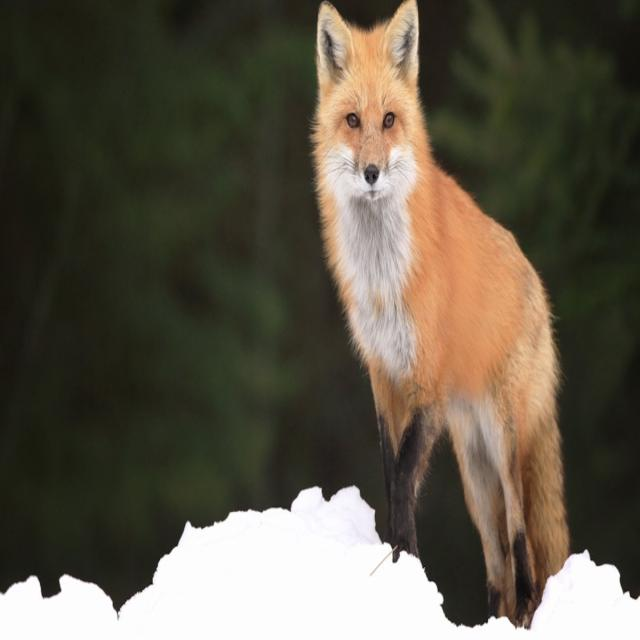fox: (308, 0, 571, 630)
